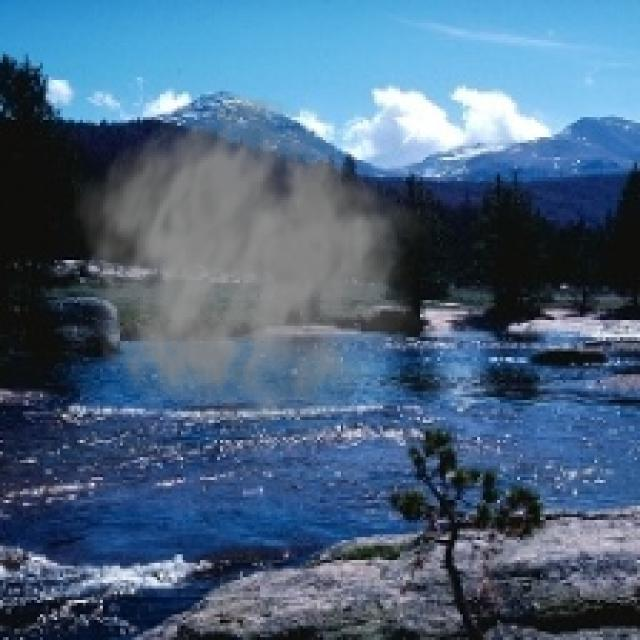Smoke: (74, 94, 432, 466)
